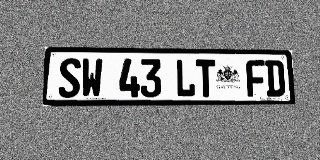3: (141, 59, 161, 97)
4: (119, 59, 140, 97)
D: (265, 60, 285, 97)
F: (246, 60, 266, 97)
L: (175, 59, 196, 97)
S: (58, 58, 81, 98)
T: (196, 59, 216, 97)
W: (81, 58, 103, 98)
